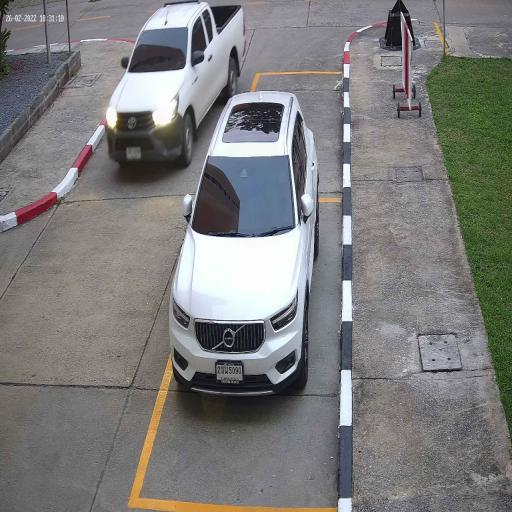car: (169, 87, 322, 403), (104, 0, 248, 170)
